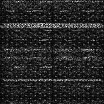lte: (1, 22, 104, 28), (1, 78, 104, 82)
